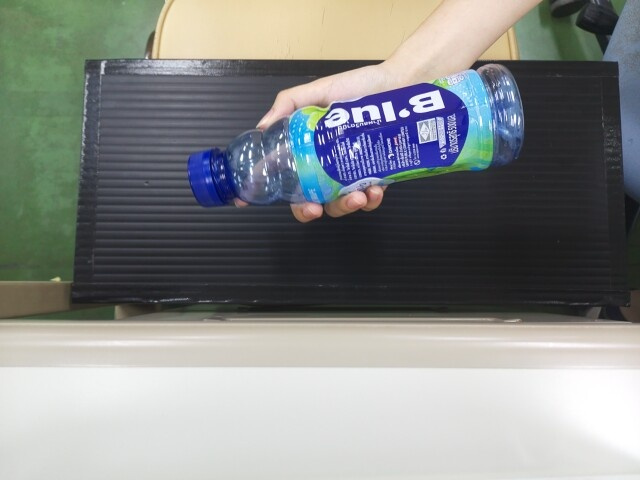plastic_bottle: (184, 102, 523, 203)
